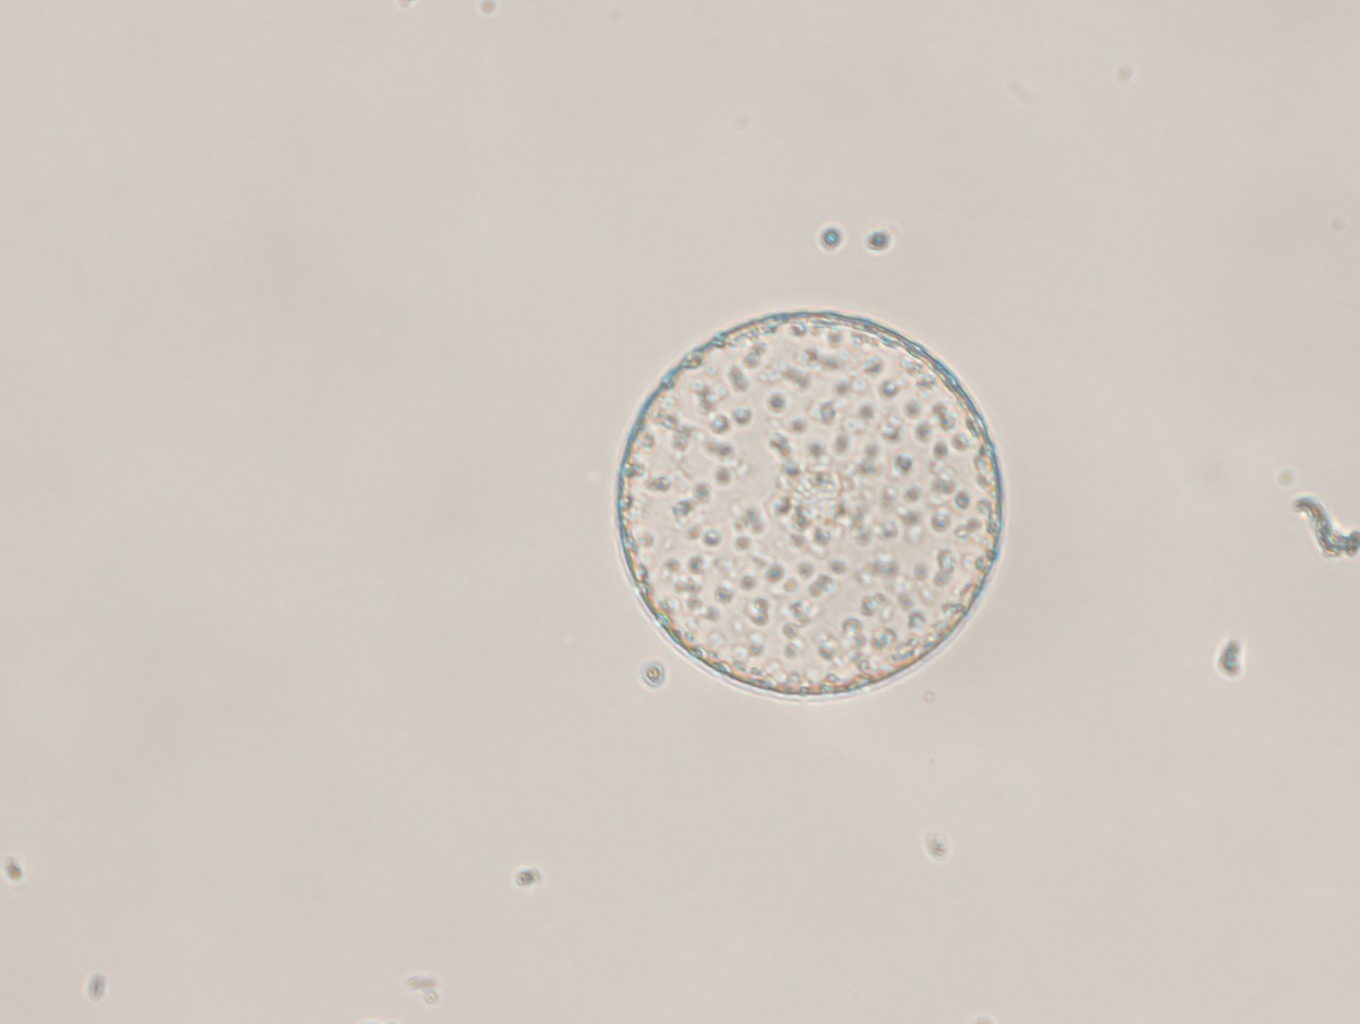coscinodiscus: (612, 308, 1007, 700)
